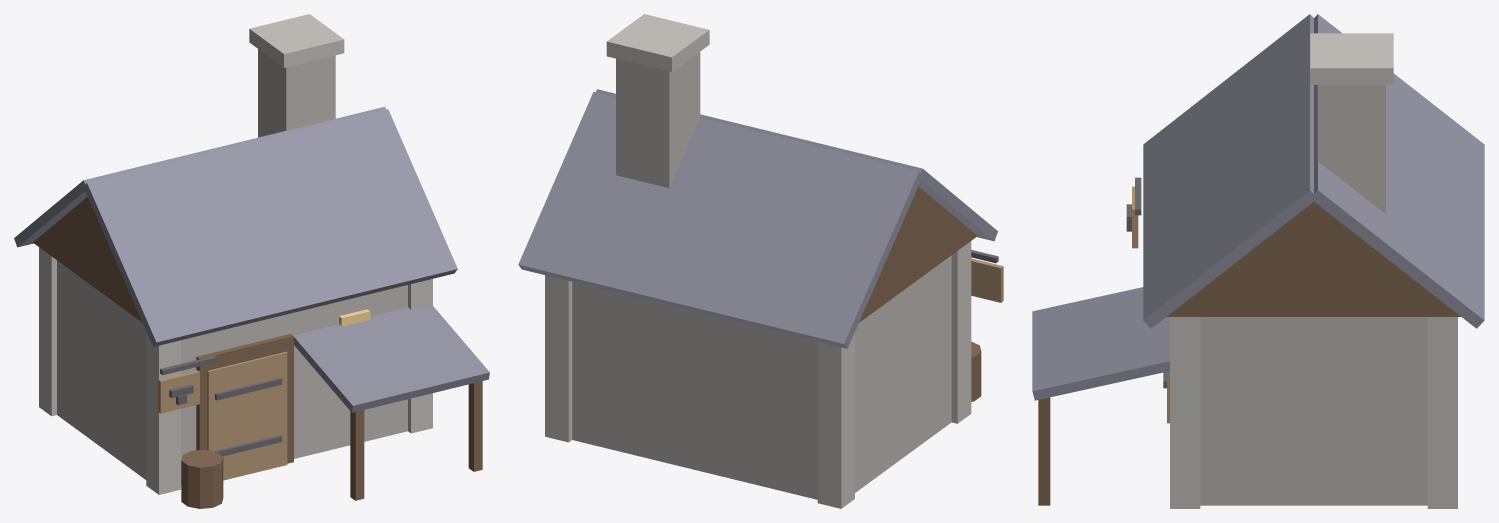
The model's file is smithy.glb.
3 views of the same model, side by side, from view 1: azimuth 30°, elevation 25°; view 2: azimuth 150°, elevation 25°; view 3: azimuth 270°, elevation 25° (orthographic). The views are drawn at different scales.
Visible parts, largest first — view 1: Cube.005, Cube, Cube.015, Cube.010, Cube.007, hastial, Cube.001, Cube.008, Cube.009, Cube.002, Cube.006, Cylinder (+5 smaller); view 2: Cube.006, Cube, Cube.007, Cube.002, hastial, Cube.004, Cube.008, Cube.001, Cube.005, Cube.019, Cylinder; view 3: Cube, Cube.005, Cube.006, hastial.001, Cube.015, Cube.007, Cube.003, Cube.004, Cube.008, Cube.017.
Boxes of the visible parts, x1=… form: Cube.005: x1=83, y1=109, x2=457, y2=346; Cube: x1=57, y1=260, x2=407, y2=486; Cube.015: x1=293, y1=305, x2=489, y2=412; Cube.010: x1=207, y1=351, x2=287, y2=480; Cube.007: x1=258, y1=49, x2=335, y2=137; hastial: x1=33, y1=197, x2=142, y2=322; Cube.001: x1=146, y1=332, x2=180, y2=494; Cube.008: x1=249, y1=14, x2=344, y2=67; Cube.009: x1=196, y1=333, x2=293, y2=463; Cube.002: x1=39, y1=247, x2=56, y2=416; Cube.006: x1=14, y1=106, x2=385, y2=247; Cylinder: x1=181, y1=449, x2=223, y2=508; Cube.006: x1=518, y1=92, x2=921, y2=348; Cube: x1=572, y1=255, x2=951, y2=499; Cube.007: x1=616, y1=52, x2=700, y2=187; Cube.002: x1=817, y1=332, x2=854, y2=508; hastial: x1=859, y1=186, x2=977, y2=322; Cube.004: x1=545, y1=275, x2=572, y2=442; Cube.008: x1=606, y1=14, x2=709, y2=72; Cube.001: x1=951, y1=241, x2=971, y2=423; Cube.005: x1=596, y1=89, x2=997, y2=241; Cube.019: x1=971, y1=258, x2=1003, y2=302; Cylinder: x1=971, y1=341, x2=981, y2=401; Cube: x1=1200, y1=317, x2=1427, y2=505; Cube.005: x1=1143, y1=14, x2=1317, y2=328; Cube.006: x1=1311, y1=14, x2=1484, y2=328; hastial.001: x1=1167, y1=202, x2=1460, y2=316; Cube.015: x1=1032, y1=287, x2=1169, y2=400; Cube.007: x1=1317, y1=85, x2=1385, y2=214; Cube.003: x1=1170, y1=317, x2=1200, y2=508; Cube.004: x1=1427, y1=317, x2=1457, y2=508; Cube.008: x1=1310, y1=33, x2=1393, y2=84; Cube.017: x1=1038, y1=397, x2=1050, y2=505.
Size of the model in its own units: 2.76 by 3.08 by 2.98.
